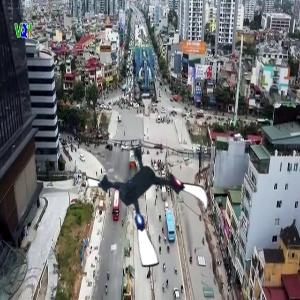drone: (87, 138, 216, 267)
